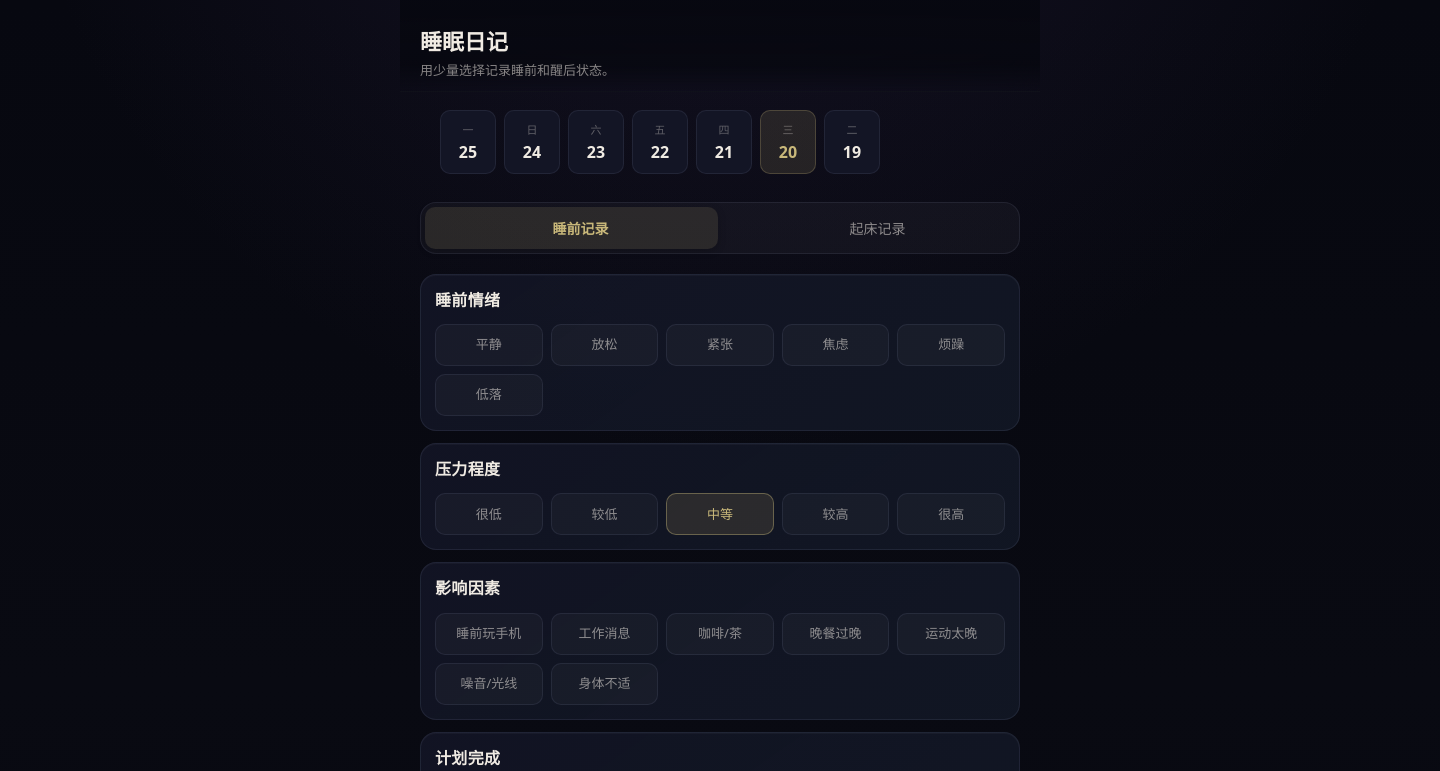
Scenario: DiaryPage › shows validation error and does not save invalid wake checkin
Step 1. Click the button "起床记录" → [868, 228], box top-left (722, 207), bottom-right (1015, 249)
(page scrolled)
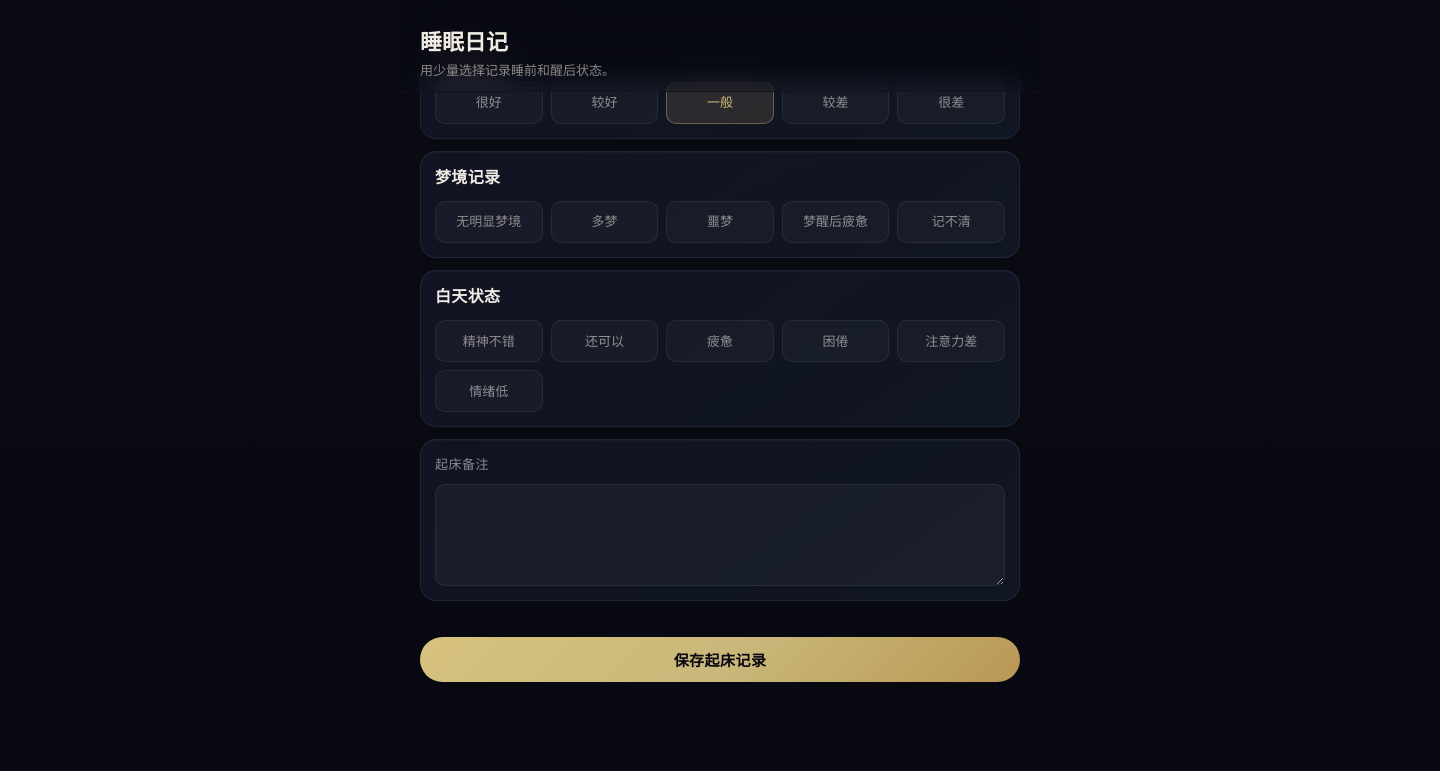
Step 2. Click the button "保存起床记录" → [720, 659], box top-left (420, 637), bottom-right (1020, 682)
(page scrolled)
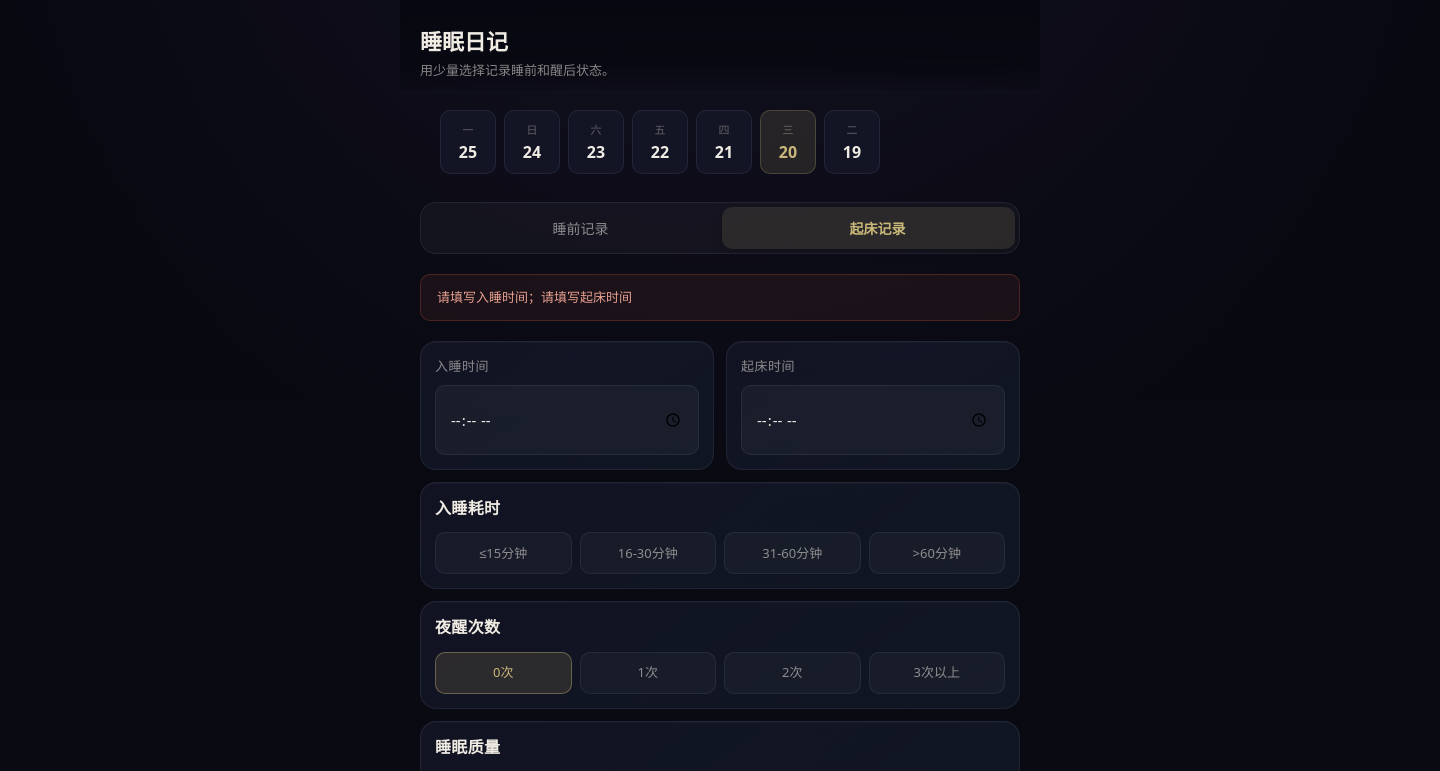
Check: the message shows "请填写入睡时间", box top-left (437, 288), bottom-right (632, 306)
